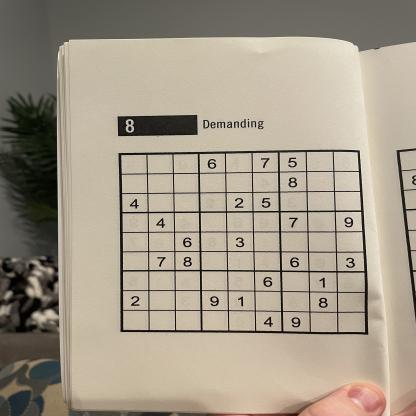sudoku: (114, 146, 374, 340)
